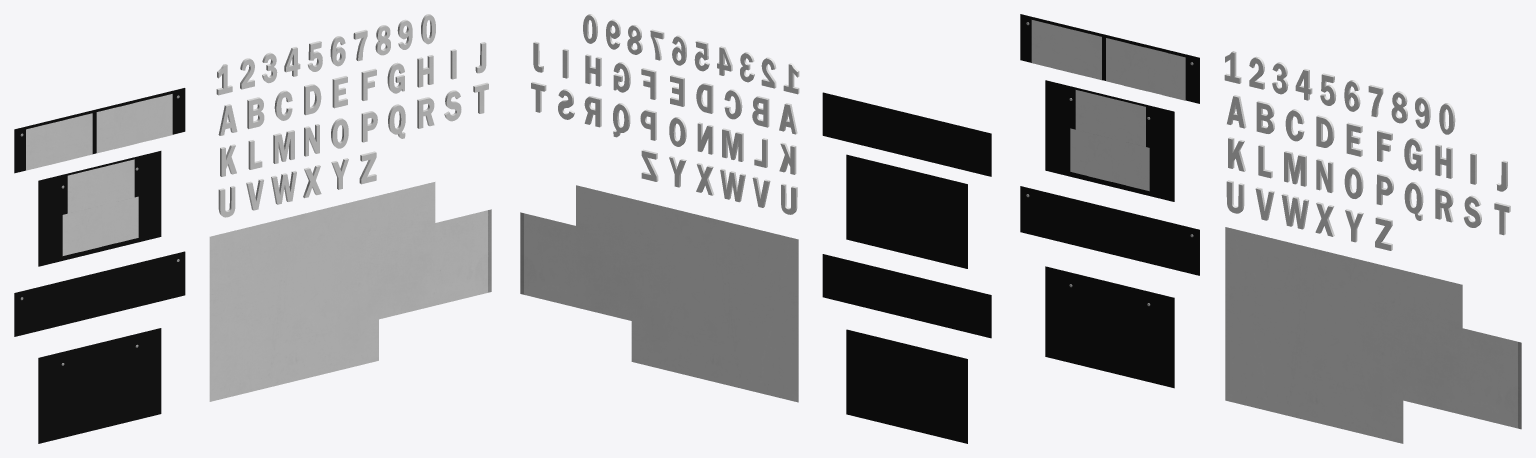
3 views of the same model, side by side, from view 1: azimuth 30°, elevation 25°; view 2: azimuth 150°, elevation 25°; view 3: azimuth 330°, elevation 25° (orthographic). The views are drawn at different scales.
Parts seen in each view (by area): view 1: NumberPlateTwoRow_38, NumberPlateOneRow_39, SampleNumberPlateTwoRow_47, SampleNumberPlateOneRow_55, DecalAlphabet_R_68, DecalAlphabet_Z_79, DecalAlphabet_W_56, DecalAlphabet_D_59, DecalAlphabet_H_61, DecalAlphabet_I_62, DecalAlphabet_A_67, DecalAlphabet_Y_71 (+45 smaller); view 2: NumberPlateTwoRow_38, SampleNumberPlateTwoRow_47, NumberPlateOneRow_39, SampleNumberPlateOneRow_55, DecalAlphabet_O_78, DecalAlphabet_E_82, DecalAlphabet_Z_79, DecalAlphabet_D_59, DecalAlphabet_J_73, DecalAlphabet_T_74, DecalAlphabet_P_85, DecalAlphabet_Y_71 (+31 smaller); view 3: NumberPlateTwoRow_38, NumberPlateOneRow_39, SampleNumberPlateTwoRow_47, SampleNumberPlateOneRow_55, DecalAlphabet_I_62, DecalAlphabet_P_85, DecalAlphabet_M_89, DecalAlphabet_S_64, DecalAlphabet_Z_79, DecalAlphabet_W_56, DecalAlphabet_C_81, DecalAlphabet_F_83 (+48 smaller).
Part boxes in pixels (x1,y1,x2,y2): NumberPlateTwoRow_38: (38,328,161,443); NumberPlateOneRow_39: (14,251,185,336); SampleNumberPlateTwoRow_47: (38,151,161,266); SampleNumberPlateOneRow_55: (14,88,185,173); DecalAlphabet_R_68: (407,264,435,312); DecalAlphabet_Z_79: (350,319,378,367); DecalAlphabet_W_56: (266,340,294,388); DecalAlphabet_D_59: (294,250,322,298); DecalAlphabet_H_61: (407,223,435,271); DecalAlphabet_I_62: (435,216,463,264); DecalAlphabet_A_67: (209,271,237,319); DecalAlphabet_Y_71: (322,326,350,374); NumberPlateTwoRow_38: (846,329,967,443); SampleNumberPlateTwoRow_47: (846,154,967,268); NumberPlateOneRow_39: (822,254,991,338); SampleNumberPlateOneRow_55: (822,92,991,176); DecalAlphabet_O_78: (659,287,687,334); DecalAlphabet_E_82: (659,246,687,293); DecalAlphabet_Z_79: (631,321,659,368); DecalAlphabet_D_59: (687,253,715,300); DecalAlphabet_J_73: (520,212,548,259); DecalAlphabet_T_74: (520,253,548,300); DecalAlphabet_P_85: (631,280,659,327); DecalAlphabet_Y_71: (659,328,687,375); NumberPlateTwoRow_38: (1045,266,1174,388); NumberPlateOneRow_39: (1020,186,1199,275); SampleNumberPlateTwoRow_47: (1045,80,1174,201); SampleNumberPlateOneRow_55: (1020,14,1199,103); DecalAlphabet_I_62: (1462,328,1492,378); DecalAlphabet_P_85: (1373,350,1403,400); DecalAlphabet_M_89: (1284,328,1314,378); DecalAlphabet_S_64: (1462,372,1492,421); DecalAlphabet_Z_79: (1373,393,1403,443); DecalAlphabet_W_56: (1284,372,1314,421); DecalAlphabet_C_81: (1284,285,1314,335); DecalAlphabet_F_83: (1373,306,1403,356).
Size of the model in its own units: 0.8461 by 0.5722 by 0.015.
2 materials, 2 textured.
